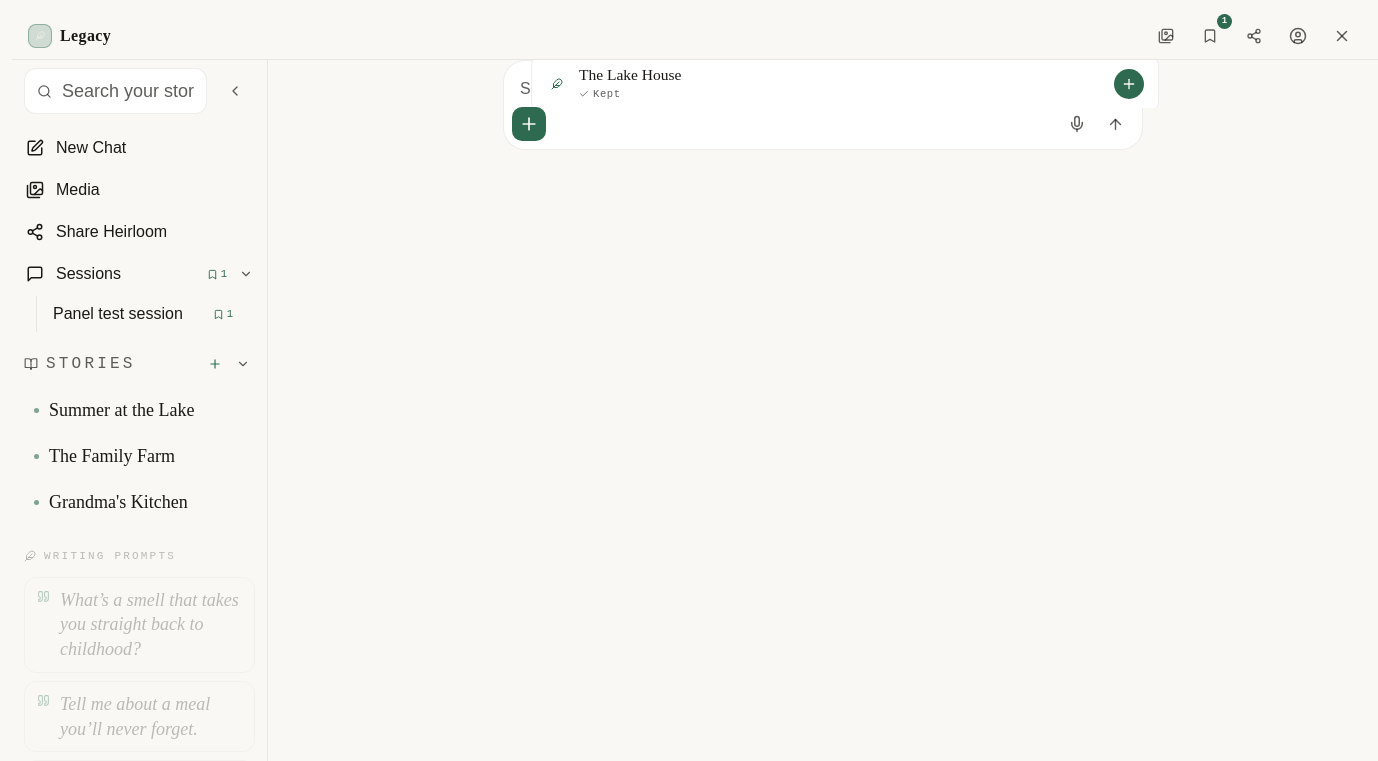
it: ChatHero — assign memory to story › the picker lists stories the member is subscribed to but does not own, alongside owned ones
(page scrolled)
Expected: the button "The Lake House Kept" is shown, [531,60,1159,108]
Click the button "The Lake House Kept" at x=630, y=75, box [531,53,1159,114]
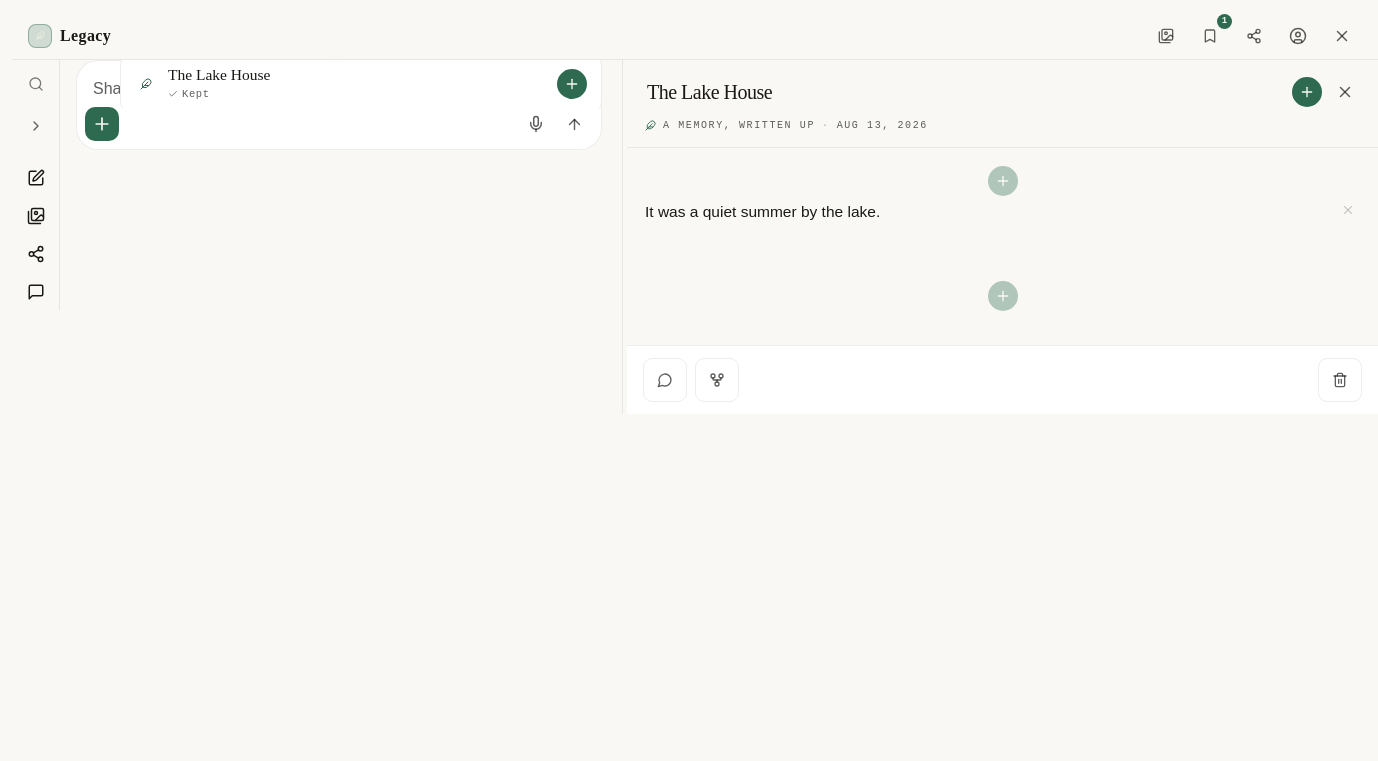
Expected: the field named "Memory title" holds "The Lake House", [645,74,1284,110]
Click the 2nd button with test id "story-picker-trigger" at x=1307, y=92, box [1292,77,1322,107]
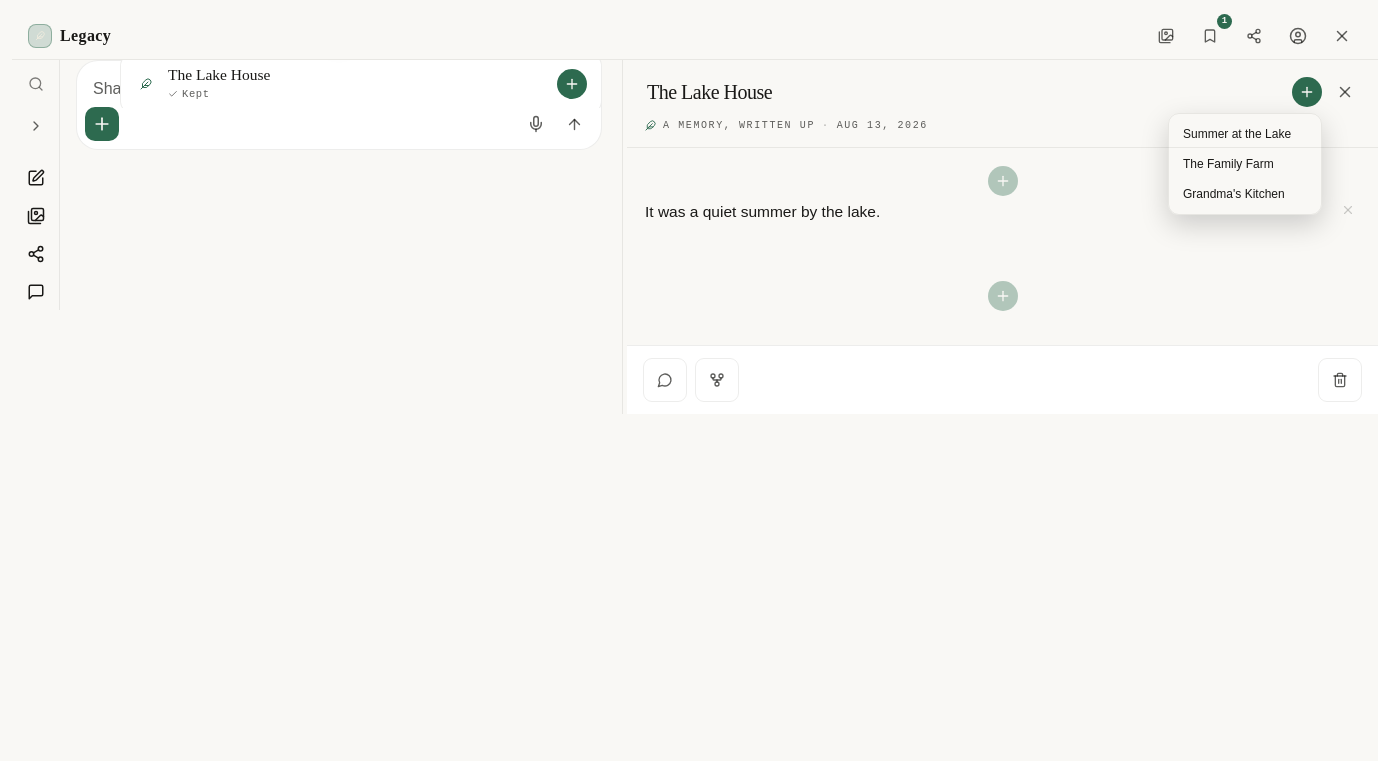
Expected: the button "The Family Farm" is shown, [1175,150,1315,178]
Expected: the button with aria-label "Add to Grandma's Kitchen" is shown, [1175,180,1315,208]
